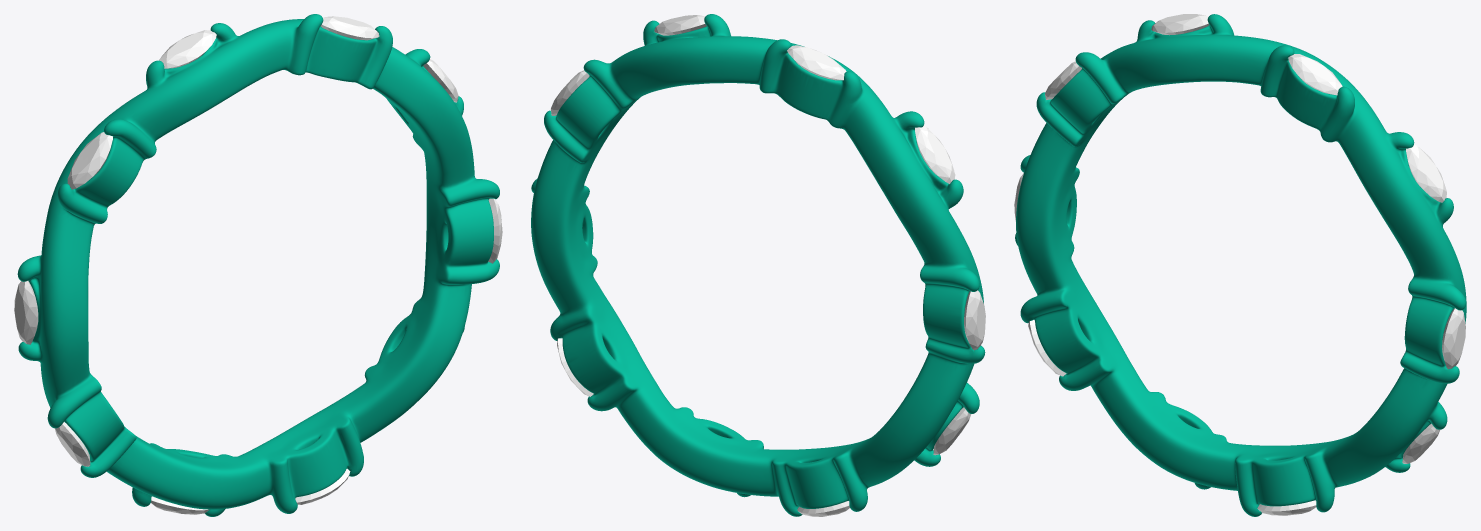
The model's file is BE2D1633_RENDER.glb.
The picture shows the model from 3 angles, left to right: view 1: azimuth 30°, elevation 25°; view 2: azimuth 150°, elevation 25°; view 3: azimuth 330°, elevation 25°; orthographic projection. The views are drawn at different scales.
Parts seen in each view (by area): view 1: Metal03, Diamond_Marquise_Gem_BD.002, Diamond_Marquise_Gem_BD.001, Diamond_Marquise_Gem_BD.006, Diamond_Marquise_Gem_BD, Diamond_Marquise_Gem_BD.003, Diamond_Marquise_Gem_BD.005; view 2: Metal03, Diamond_Marquise_Gem_BD.002, Diamond_Marquise_Gem_BD.001, Diamond_Marquise_Gem_BD.006, Diamond_Marquise_Gem_BD, Diamond_Marquise_Gem_BD.003, Diamond_Marquise_Gem_BD.009; view 3: Metal03, Diamond_Marquise_Gem_BD.009, Diamond_Marquise_Gem_BD, Diamond_Marquise_Gem_BD.005, Diamond_Marquise_Gem_BD.001, Diamond_Marquise_Gem_BD.008, Diamond_Marquise_Gem_BD.004, Diamond_Marquise_Gem_BD.002.
Boxes of the visible parts, x1=… form: Metal03: x1=17, y1=14, x2=499, y2=516; Diamond_Marquise_Gem_BD.002: x1=67, y1=132, x2=112, y2=189; Diamond_Marquise_Gem_BD.001: x1=159, y1=30, x2=216, y2=68; Diamond_Marquise_Gem_BD.006: x1=14, y1=281, x2=38, y2=344; Diamond_Marquise_Gem_BD: x1=321, y1=16, x2=379, y2=40; Diamond_Marquise_Gem_BD.003: x1=55, y1=422, x2=90, y2=466; Diamond_Marquise_Gem_BD.005: x1=488, y1=198, x2=502, y2=263; Metal03: x1=531, y1=14, x2=985, y2=516; Diamond_Marquise_Gem_BD.002: x1=915, y1=126, x2=955, y2=183; Diamond_Marquise_Gem_BD.001: x1=787, y1=45, x2=846, y2=80; Diamond_Marquise_Gem_BD.006: x1=964, y1=290, x2=985, y2=350; Diamond_Marquise_Gem_BD: x1=654, y1=15, x2=706, y2=35; Diamond_Marquise_Gem_BD.003: x1=933, y1=407, x2=971, y2=455; Diamond_Marquise_Gem_BD.009: x1=550, y1=70, x2=589, y2=115; Metal03: x1=1015, y1=14, x2=1466, y2=516; Diamond_Marquise_Gem_BD.009: x1=1406, y1=144, x2=1446, y2=202; Diamond_Marquise_Gem_BD: x1=1288, y1=54, x2=1342, y2=95; Diamond_Marquise_Gem_BD.005: x1=1442, y1=308, x2=1465, y2=369; Diamond_Marquise_Gem_BD.001: x1=1151, y1=14, x2=1209, y2=35; Diamond_Marquise_Gem_BD.008: x1=1402, y1=423, x2=1439, y2=463; Diamond_Marquise_Gem_BD.004: x1=1257, y1=500, x2=1316, y2=515; Diamond_Marquise_Gem_BD.002: x1=1045, y1=61, x2=1081, y2=99.
Bounding box in the file's own units: 21.32 × 21.27 × 2.64.
